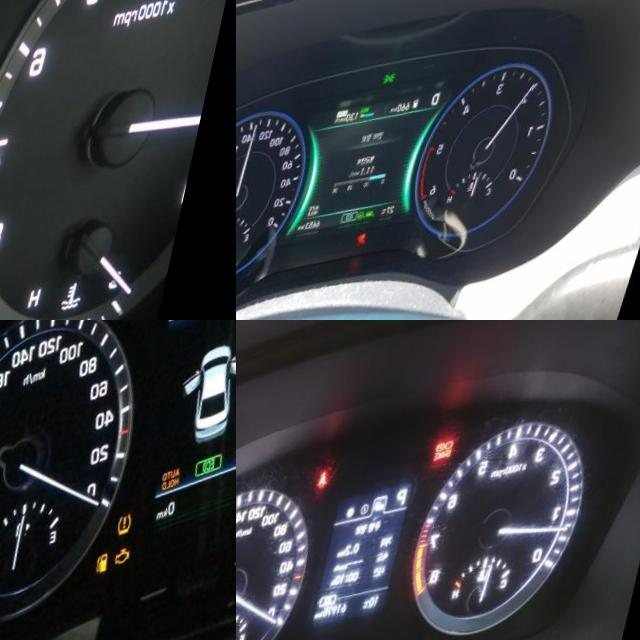Low fuel level: (116, 563, 134, 588)
SideLamp: (391, 85, 406, 100)
